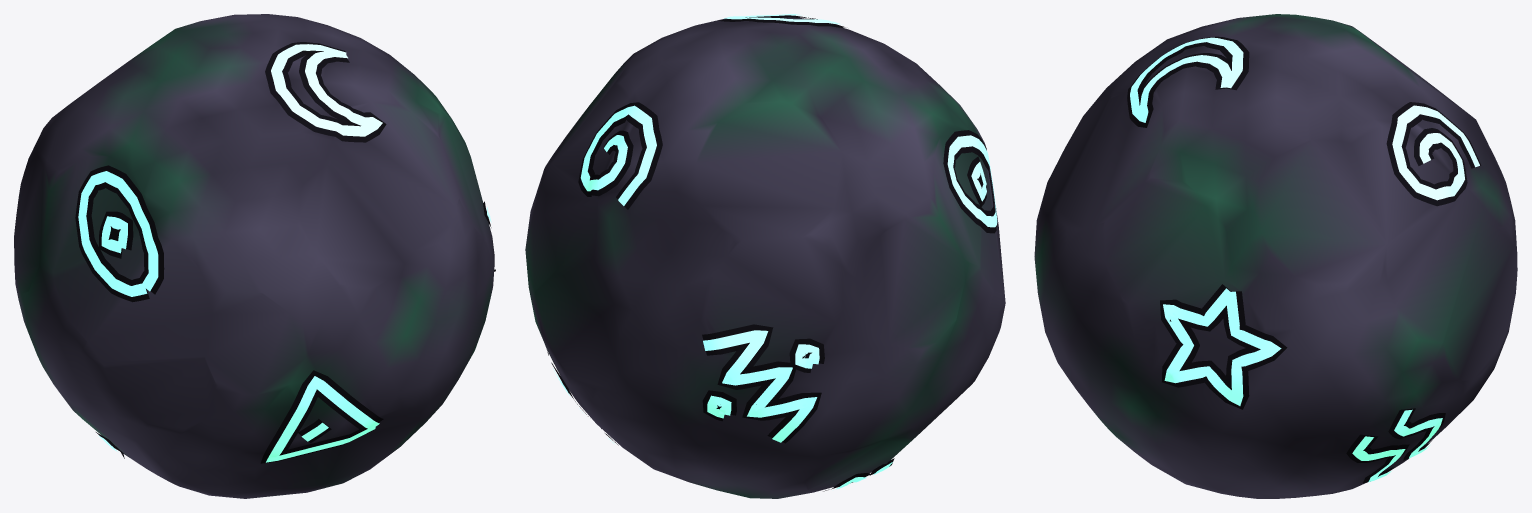
File: boulder_haunted.glb
3 renders of one model, left to right at view 1: azimuth 30°, elevation 25°; view 2: azimuth 150°, elevation 25°; view 3: azimuth 270°, elevation 25°, orthographic.
Parts seen in each view (by area): view 1: shell; view 2: shell; view 3: shell.
Boxes of the visible parts, bbox=[...] form: shell: bbox=[14, 14, 495, 498]; shell: bbox=[525, 14, 1005, 498]; shell: bbox=[1034, 14, 1517, 498].
Bounding box in the file's own units: 1.8 × 1.81 × 1.8.
